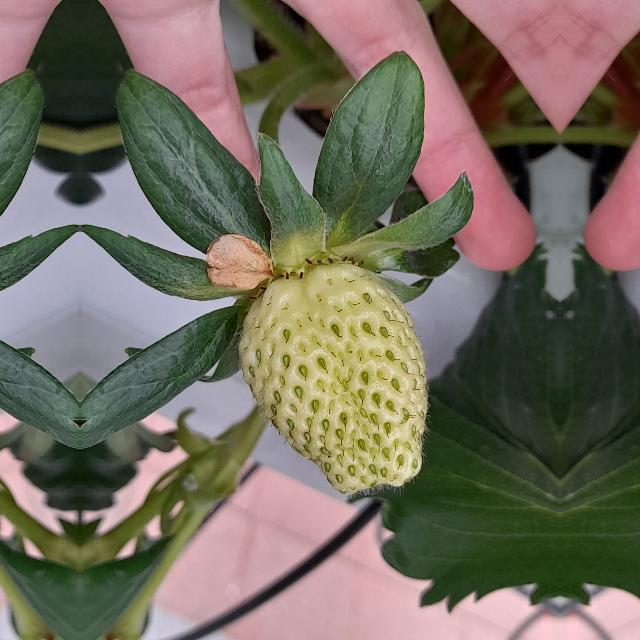Health_25: (239, 263, 427, 493)
